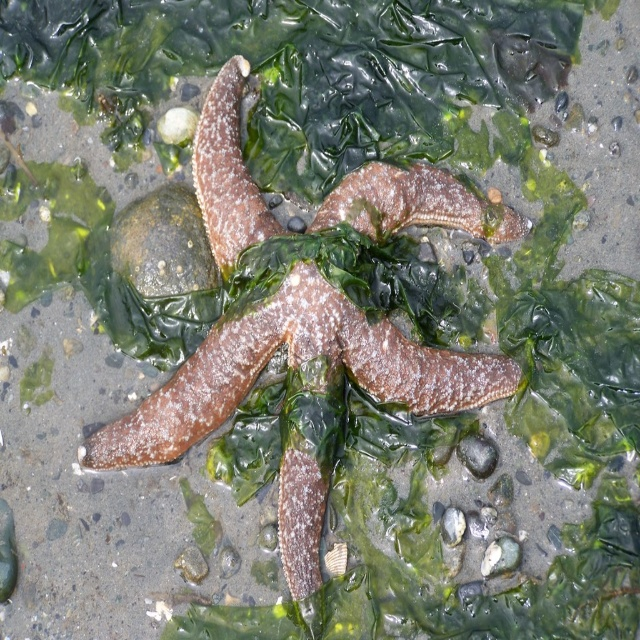Starfish: (78, 55, 545, 639)
